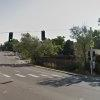Tree: (55, 19, 100, 72)
